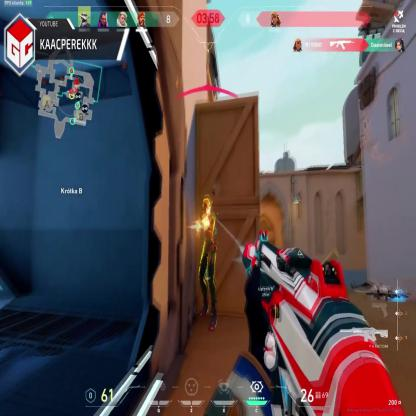enemy: (196, 199, 218, 331)
